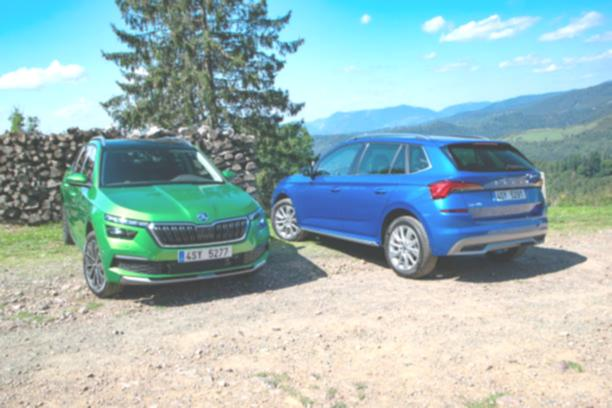skoda: (491, 176, 536, 189), (194, 209, 213, 225)
